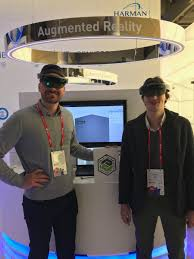hololens: (38, 72, 70, 90)
